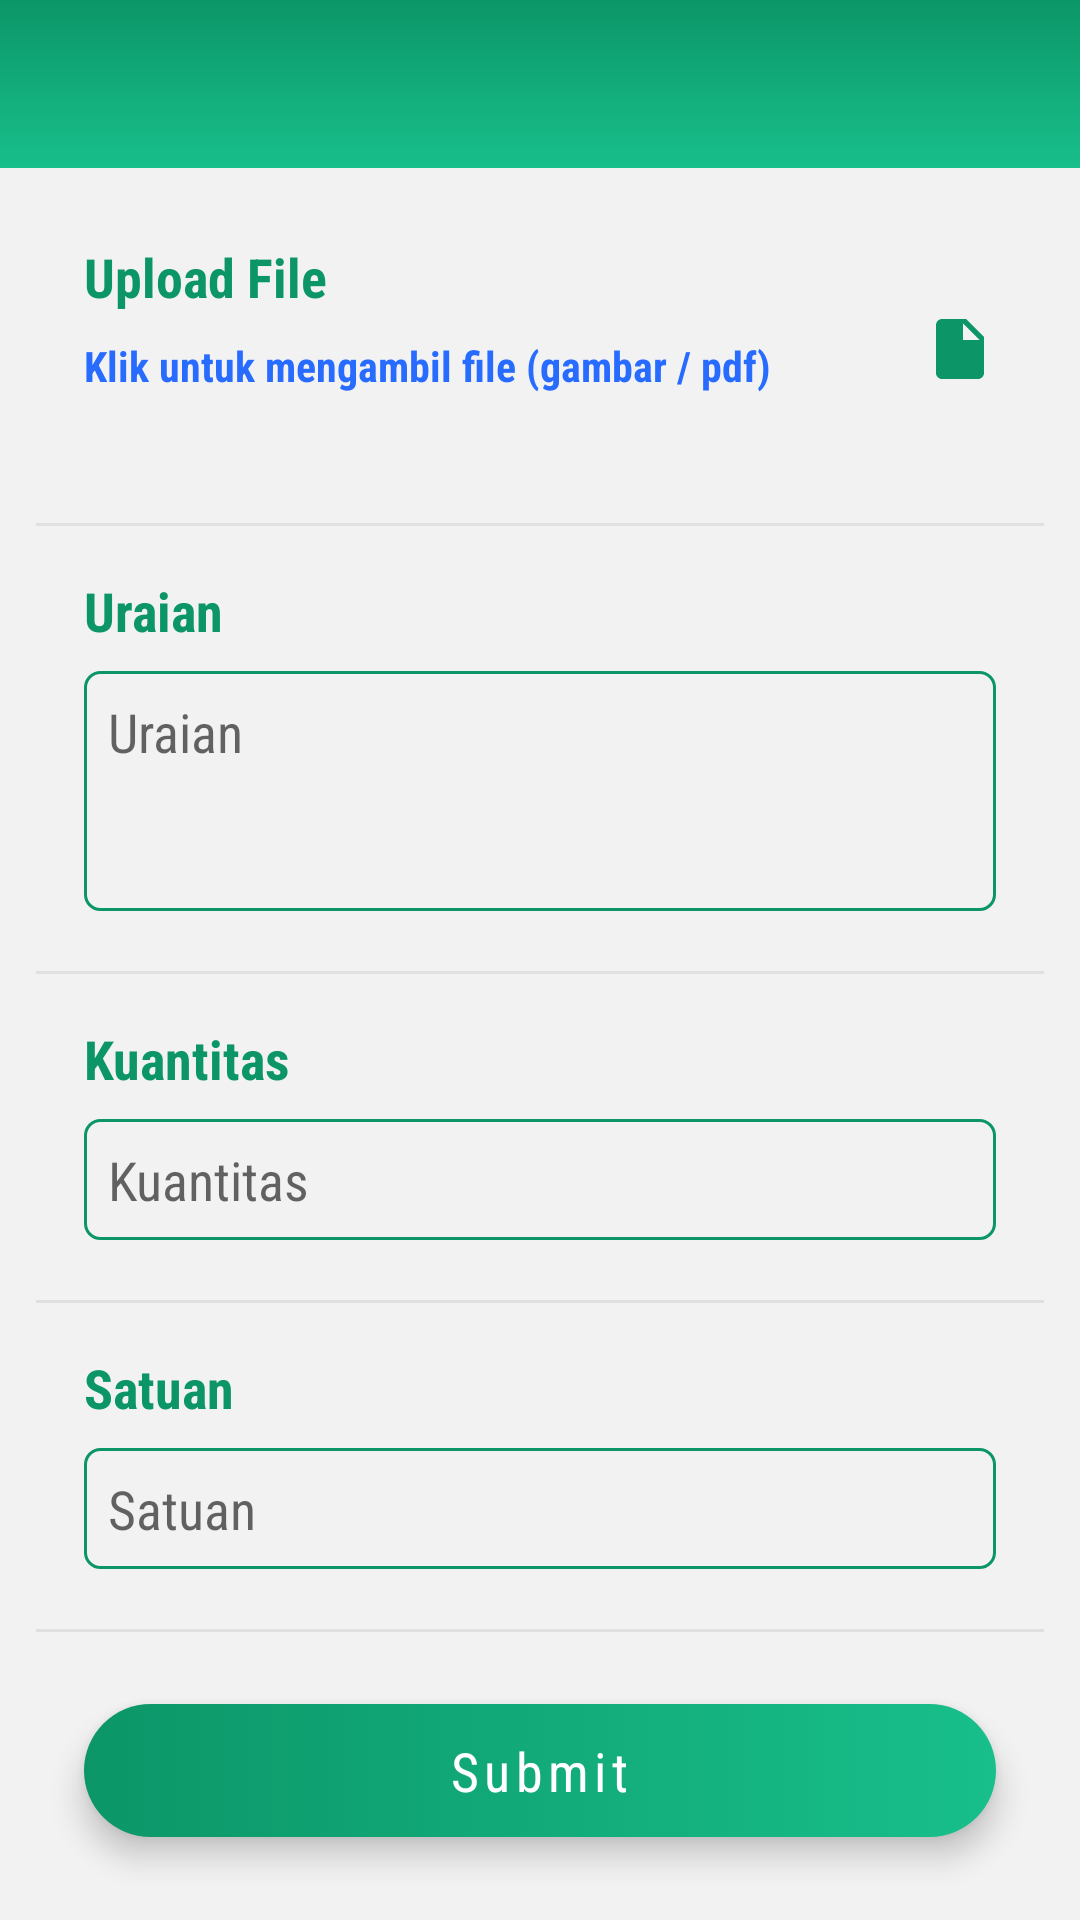

Screen size 1080 × 1920. Icon name, then its box in pixels as [x1,y1,x2,y2]:
file: [936,319,984,379]
